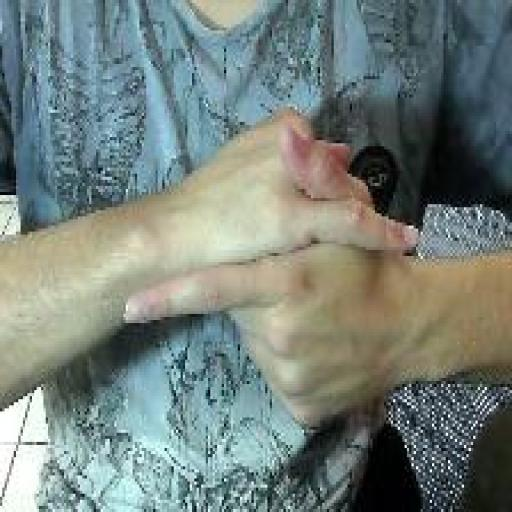U -hare-: (120, 102, 422, 434)
